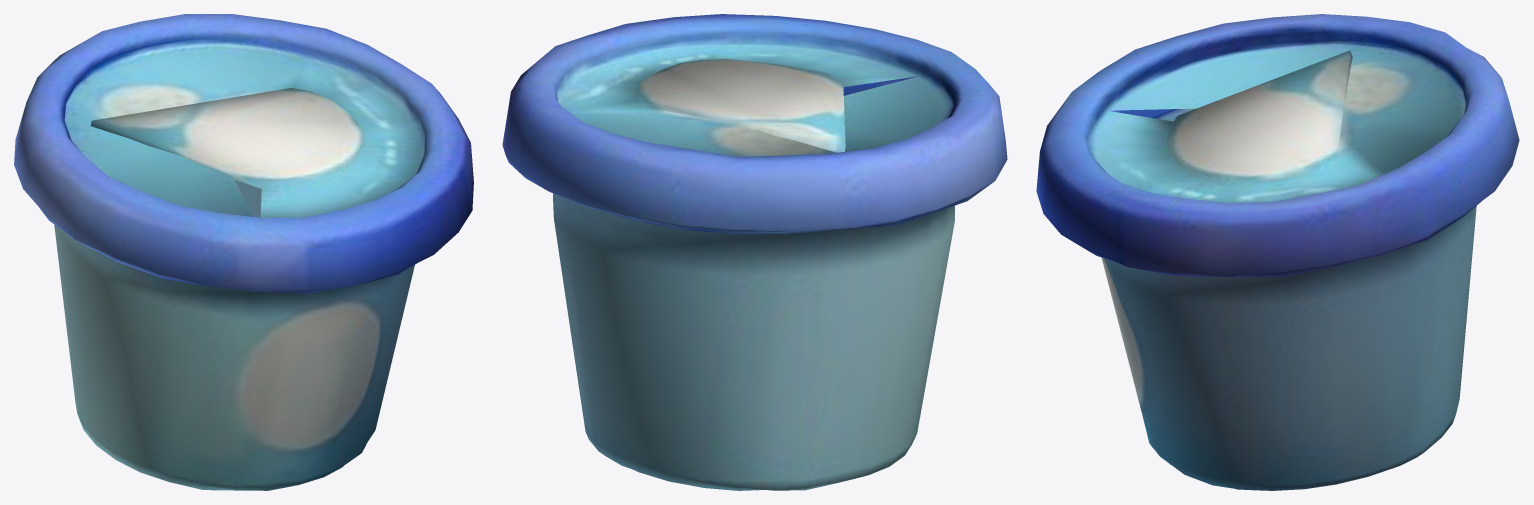
The model's file is ice-cream.glb.
The picture shows the model from 3 angles, left to right: view 1: azimuth 30°, elevation 25°; view 2: azimuth 150°, elevation 25°; view 3: azimuth 270°, elevation 25°; orthographic projection. The views are drawn at different scales.
Parts seen in each view (by area): view 1: Ice Cream; view 2: Ice Cream; view 3: Ice Cream.
Boxes of the visible parts, left/top/right/bottom form: Ice Cream: left=14, top=14, right=473, bottom=490; Ice Cream: left=502, top=14, right=1007, bottom=490; Ice Cream: left=1036, top=14, right=1519, bottom=490.
Bounding box in the file's own units: 1.86 × 1.56 × 1.92.
Materials: 1 (1 with a texture image).
